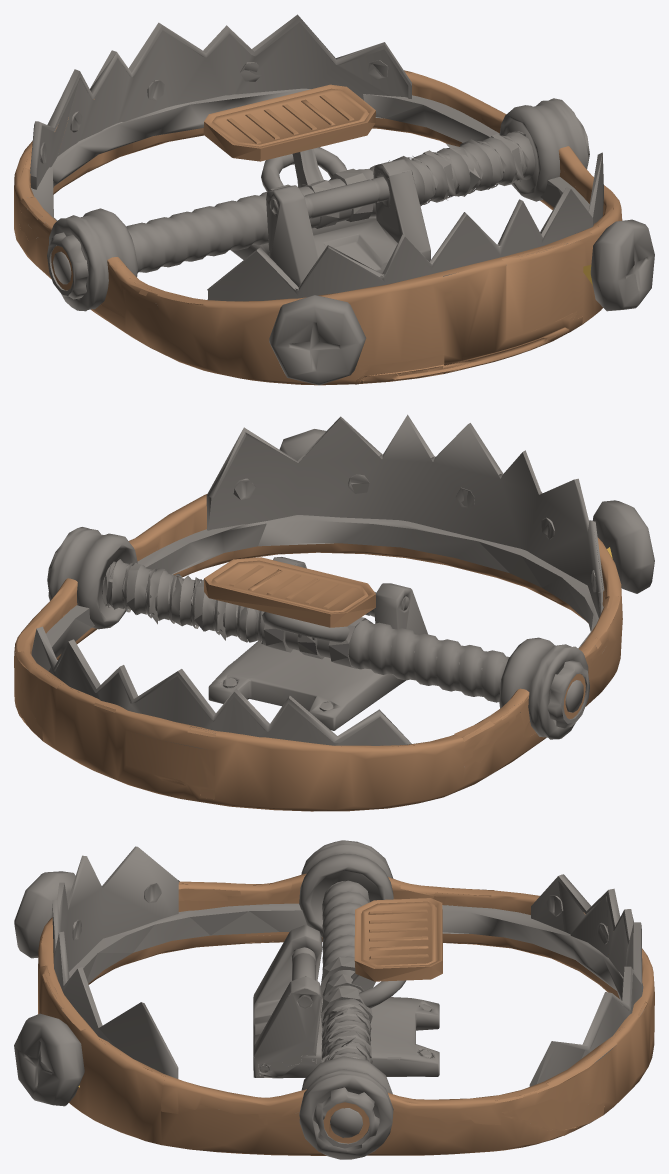
File: bear_trap.glb
The picture shows the model from 3 angles, top to bottom: view 1: azimuth 30°, elevation 25°; view 2: azimuth 150°, elevation 25°; view 3: azimuth 270°, elevation 25°; orthographic projection. The views are drawn at different scales.
Visible parts, largest first — view 1: JawFront, TrapBase, JawBack; view 2: JawFront, JawBack, TrapBase; view 3: JawFront, TrapBase, JawBack.
Part boxes in pixels (x1,y1,x2,y2): JawFront: (91,136,654,385); TrapBase: (43,84,589,317); JawBack: (14,14,544,314); JawFront: (76,414,654,743); JawBack: (14,578,545,811); TrapBase: (47,527,591,739); JawFront: (14,846,370,1155); TrapBase: (243,840,442,1159); JawBack: (281,874,654,1155).
Bounding box in the file's own units: 4.73 × 1.32 × 5.22.
